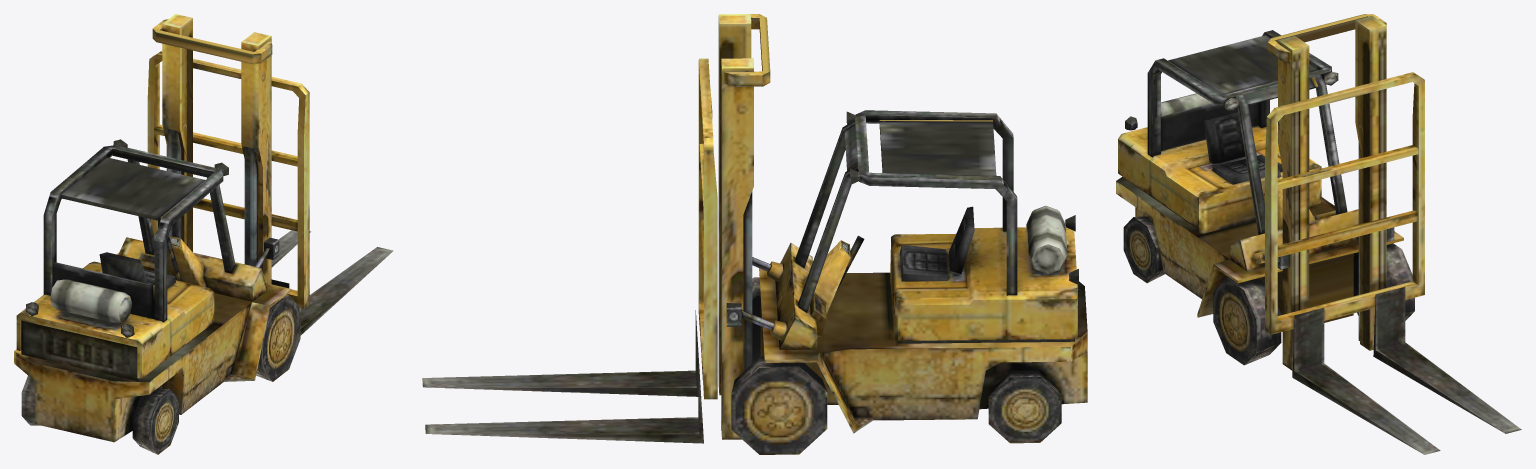
Rendered from free_fire_forklift_truck.glb.
The picture shows the model from 3 angles, left to right: view 1: azimuth 30°, elevation 25°; view 2: azimuth 150°, elevation 25°; view 3: azimuth 270°, elevation 25°; orthographic projection. The views are drawn at different scales.
Parts seen in each view (by area): view 1: Mesh_0049.rip_noesis_meshnode_0000.013; view 2: Mesh_0049.rip_noesis_meshnode_0000.013; view 3: Mesh_0049.rip_noesis_meshnode_0000.013.
Boxes of the visible parts, box(x1,y1,x2,y2) form: Mesh_0049.rip_noesis_meshnode_0000.013: box(14, 14, 393, 454); Mesh_0049.rip_noesis_meshnode_0000.013: box(422, 14, 1087, 454); Mesh_0049.rip_noesis_meshnode_0000.013: box(1116, 14, 1521, 454).
Bounding box in the file's own units: 3.76 × 2.43 × 2.79.
1 material, 1 textured.
